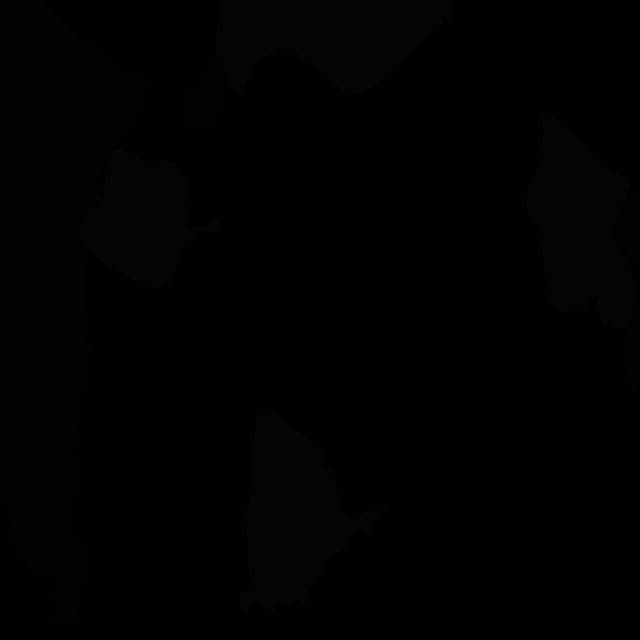cardboard: (0, 0, 147, 272), (0, 228, 95, 436), (0, 417, 85, 625), (621, 284, 640, 393), (615, 189, 640, 262)
rigid_plastic: (180, 49, 225, 134)
soft_plastic: (240, 409, 388, 614), (526, 111, 637, 327), (215, 0, 452, 96), (80, 148, 219, 291)
